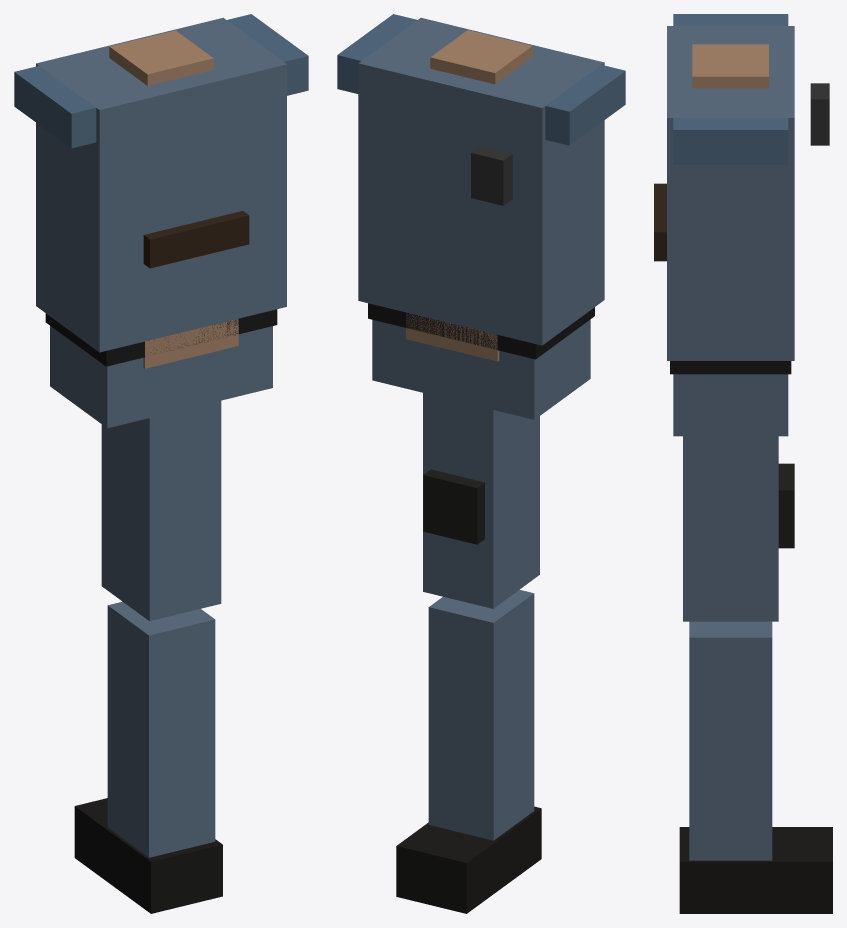
Rendered from operator_hostage.glb.
3 views of the same model, side by side, from view 1: azimuth 30°, elevation 25°; view 2: azimuth 150°, elevation 25°; view 3: azimuth 270°, elevation 25° (orthographic). The views are drawn at different scales.
Visible parts, largest first — view 1: torso, legL, hips, head; view 2: torso, legL, hips, head; view 3: legL, torso, hips, head.
Boxes of the visible parts, box(x1,y1,x2,y2) form: torso: box(14, 14, 308, 352); legL: box(74, 400, 222, 913); hips: box(45, 309, 277, 428); head: box(143, 211, 249, 368); torso: box(337, 14, 625, 345); legL: box(396, 393, 541, 913); hips: box(368, 303, 594, 419); head: box(406, 313, 499, 361); legL: box(679, 436, 832, 913); torso: box(667, 14, 829, 360); hips: box(670, 361, 791, 436); head: box(654, 183, 666, 261).
Bounding box in the file's own units: 0.43 × 1.44 × 0.28.
